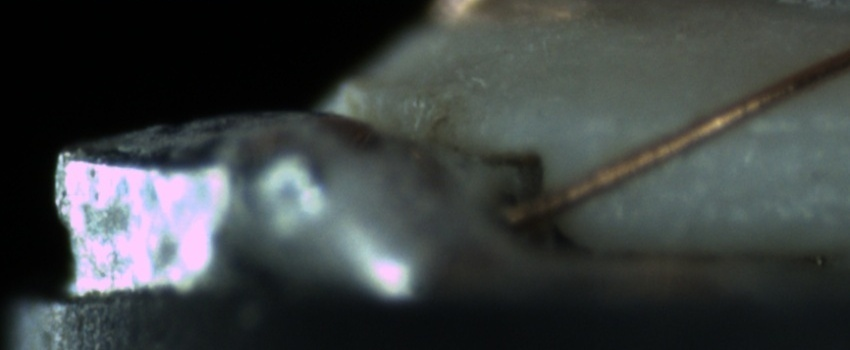DL: (624, 97, 850, 164)
